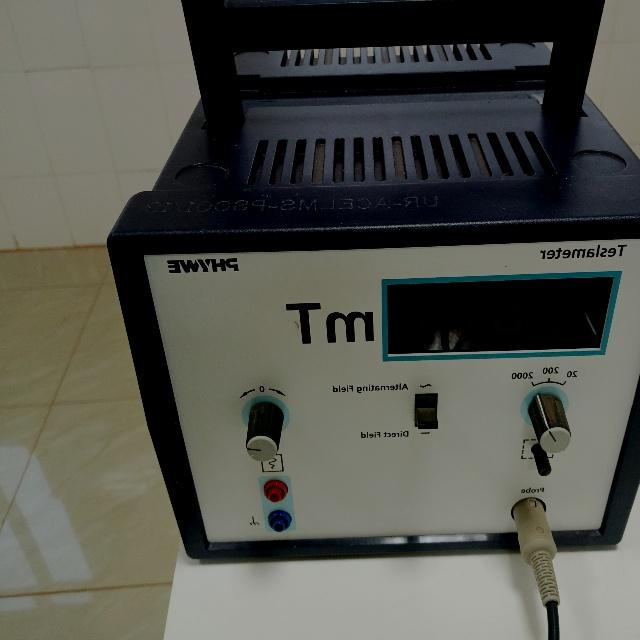Teslameter PS: (96, 0, 640, 581)
